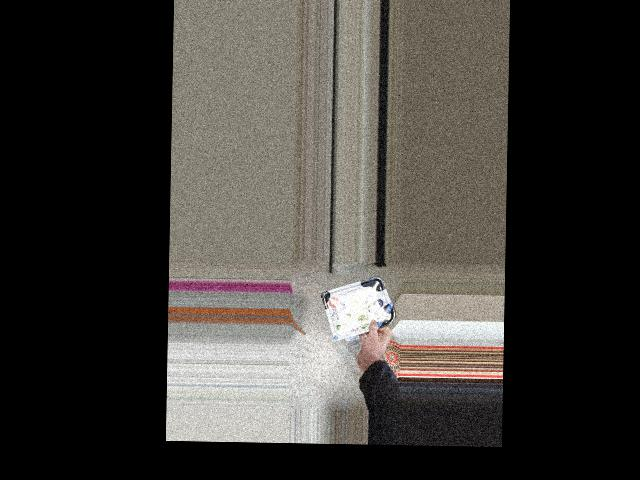cheese: (328, 282, 392, 329)
